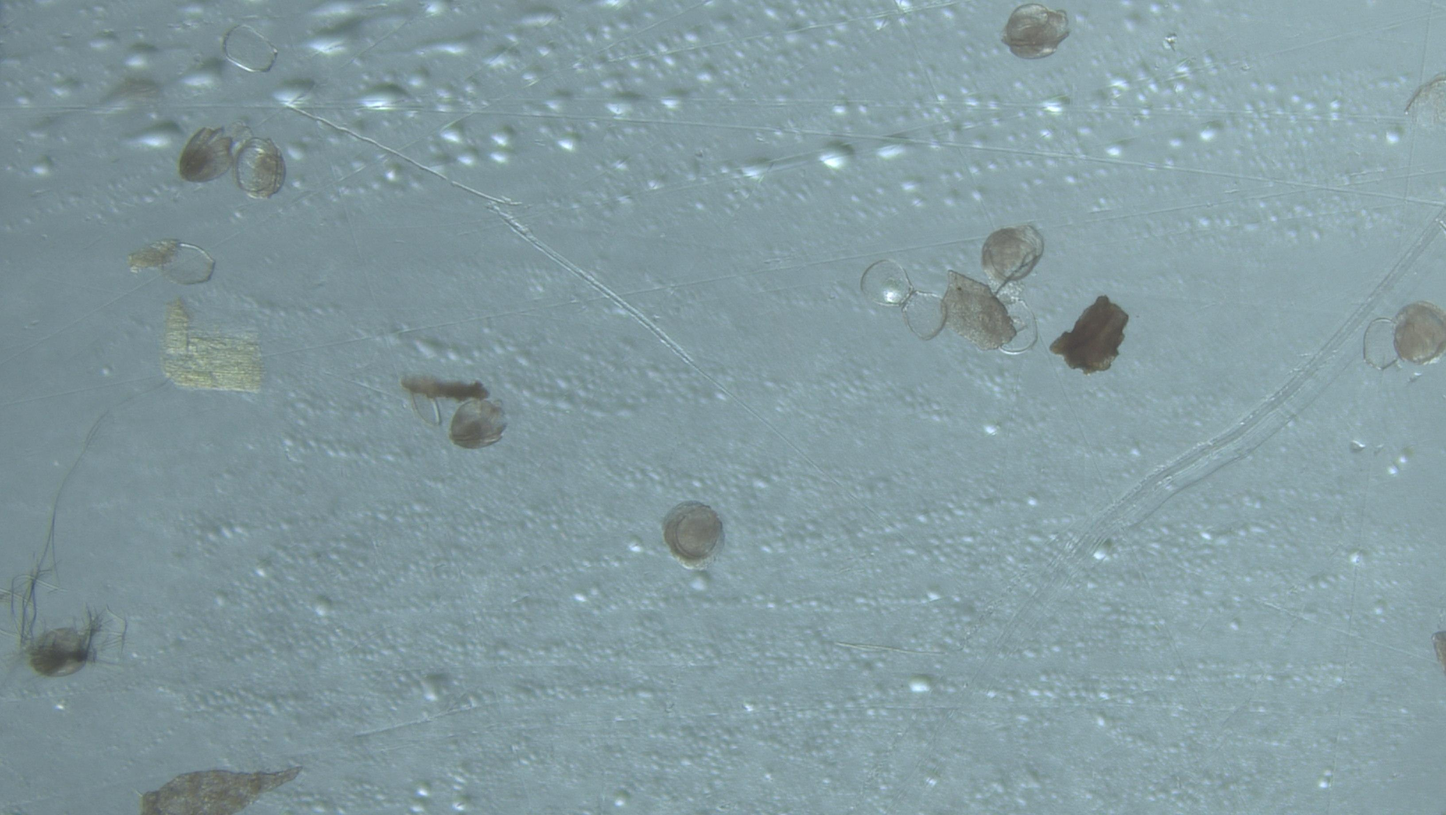dead: (996, 282, 1038, 355), (222, 25, 278, 72), (861, 260, 913, 307), (159, 242, 215, 285), (901, 291, 947, 340), (1363, 317, 1402, 370)
live: (662, 502, 724, 570), (982, 225, 1045, 285), (1003, 4, 1069, 59), (1394, 302, 1446, 365), (236, 138, 286, 199), (179, 128, 235, 182), (449, 399, 507, 450)
